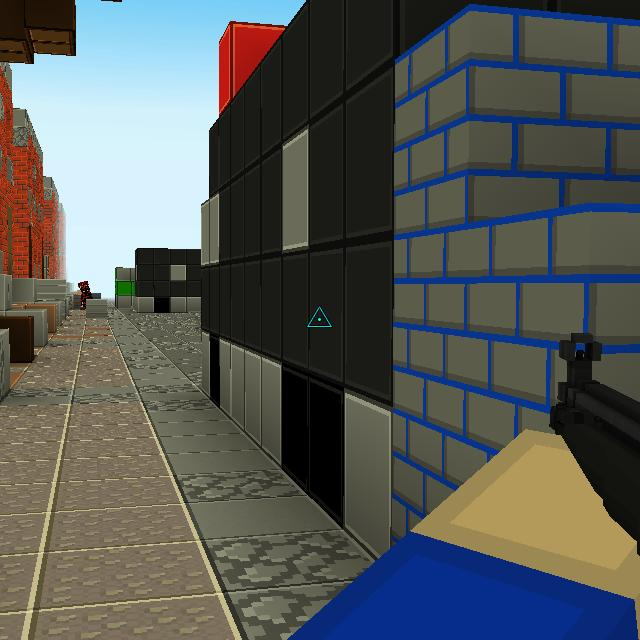enemy: (77, 280, 93, 311)
